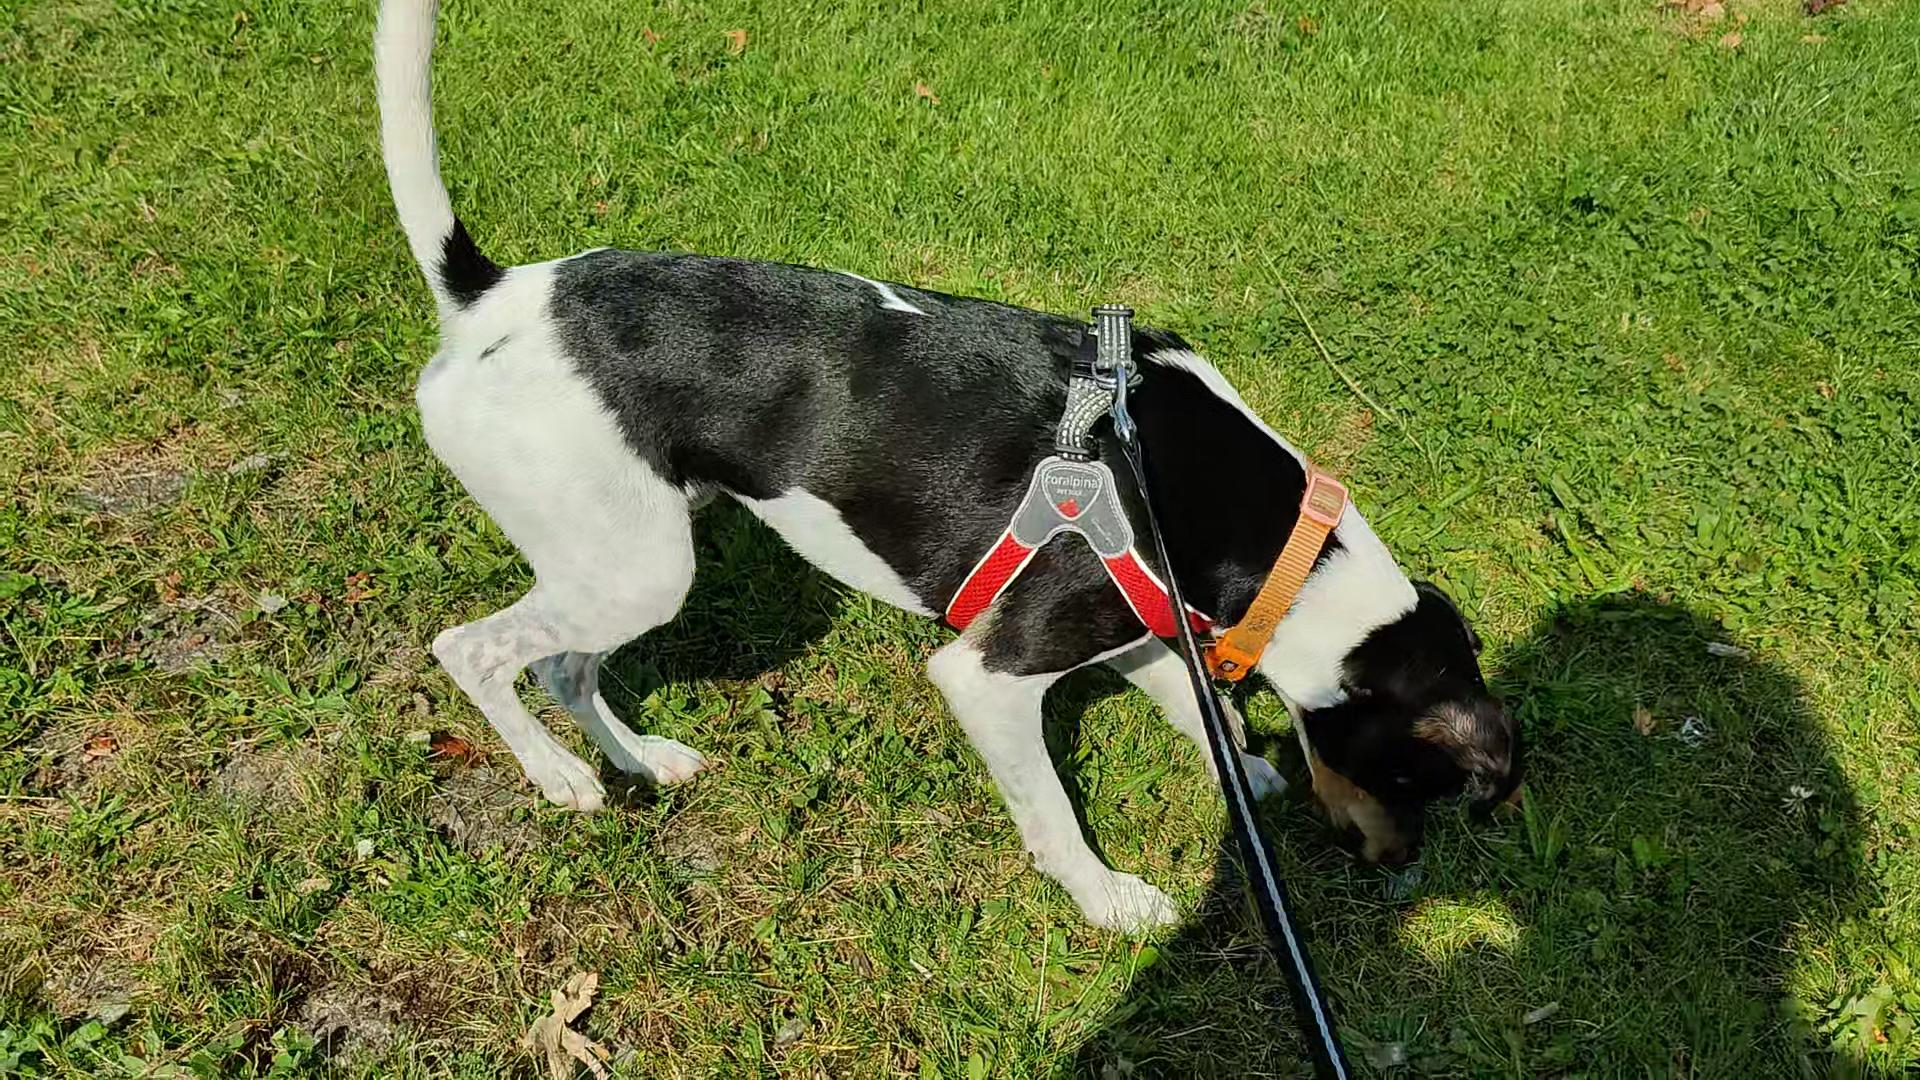Dog: (363, 0, 1542, 943)
